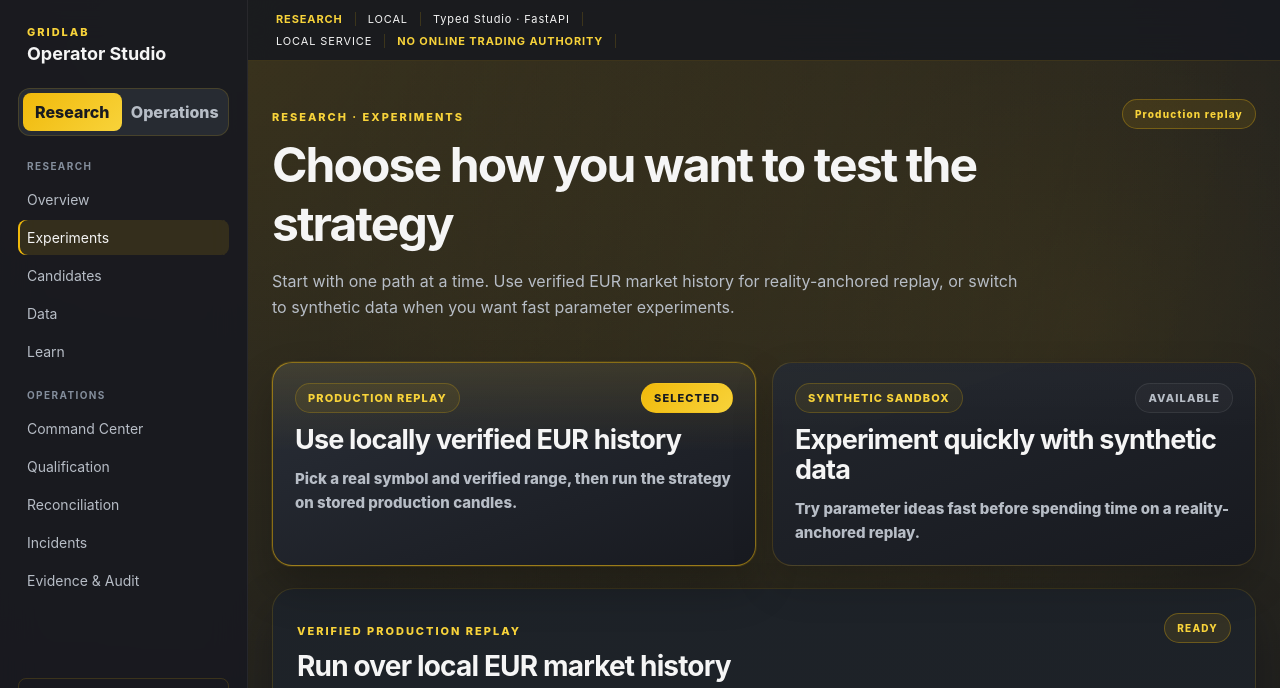
Test: typed Studio shell › configures and executes the migrated backtest through the Research port
The width and height of the screenshot is (1280, 688).
Click the button "Experiment quickly with synthetic data": (879, 398) [772,362,1256,566]
(page scrolled)
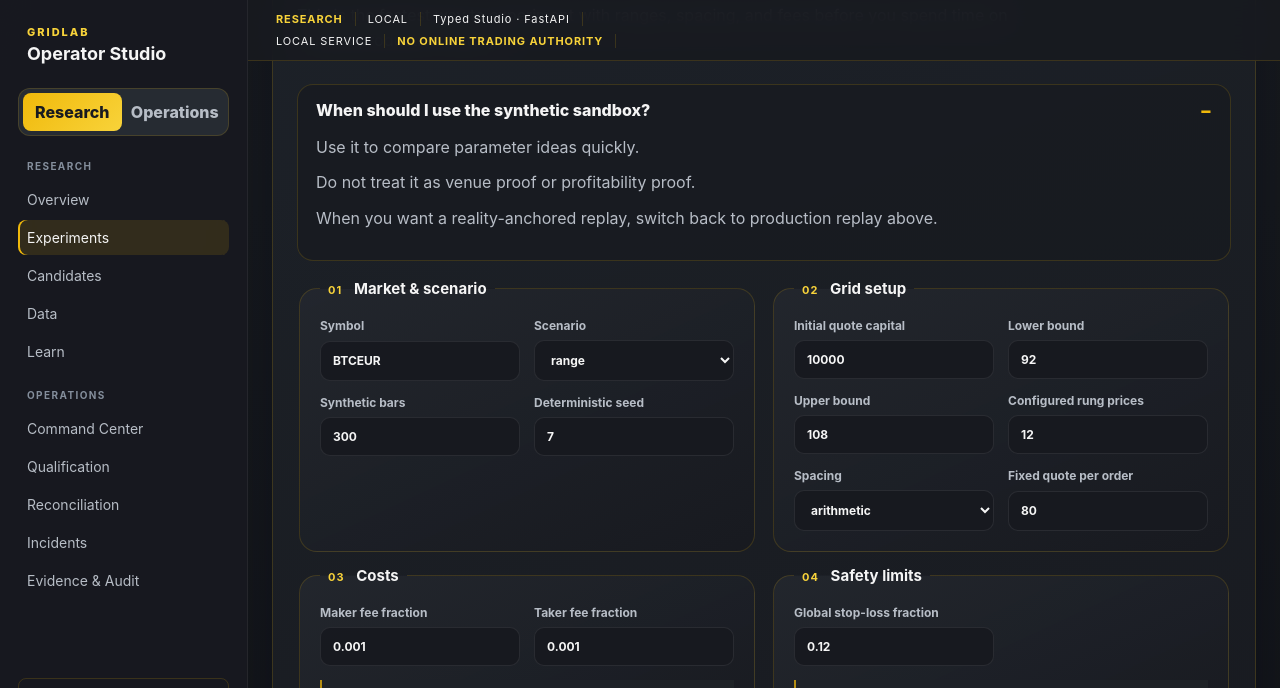
expect the text "Market & scenario" is shown: met, box [350,278,487,298]
expect the text "Grid setup" is shown: met, box [826,278,906,298]
Replace the text in the field labelled "Symbol" with "ETHUSDT": (420, 360) [320,340,520,380]
(page scrolled)
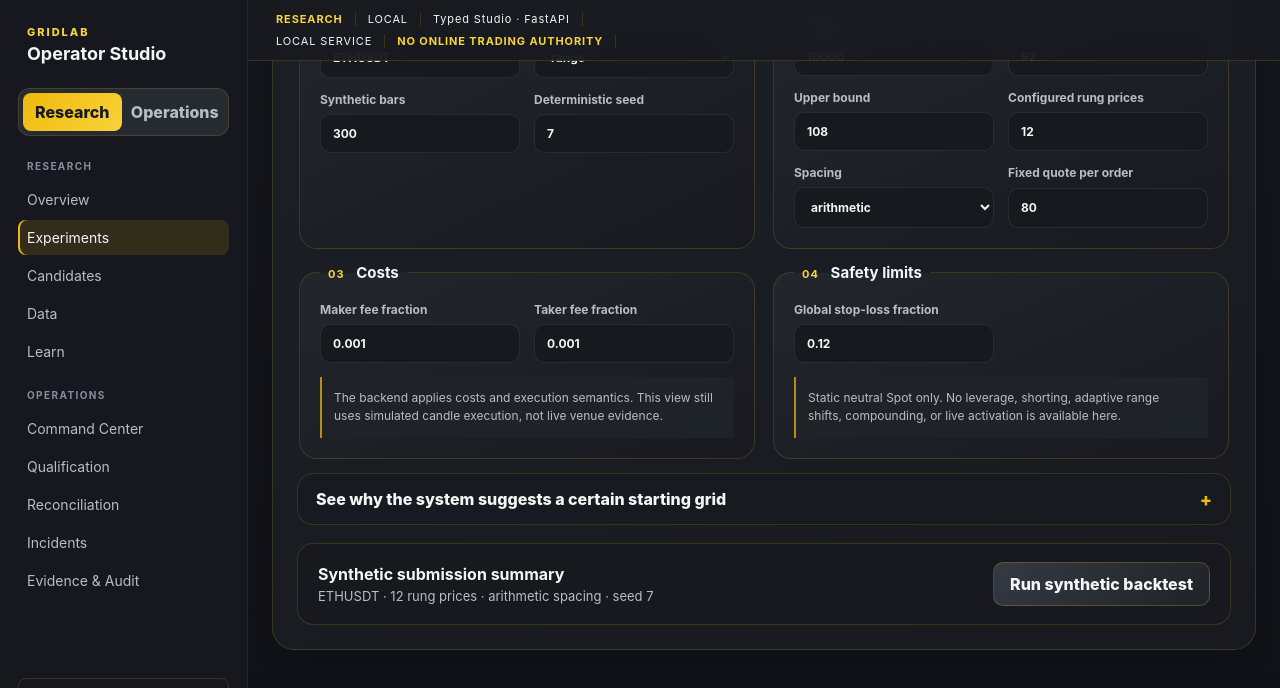
Click the button "Run synthetic backtest": (1102, 584) [993,562,1210,606]
(page scrolled)
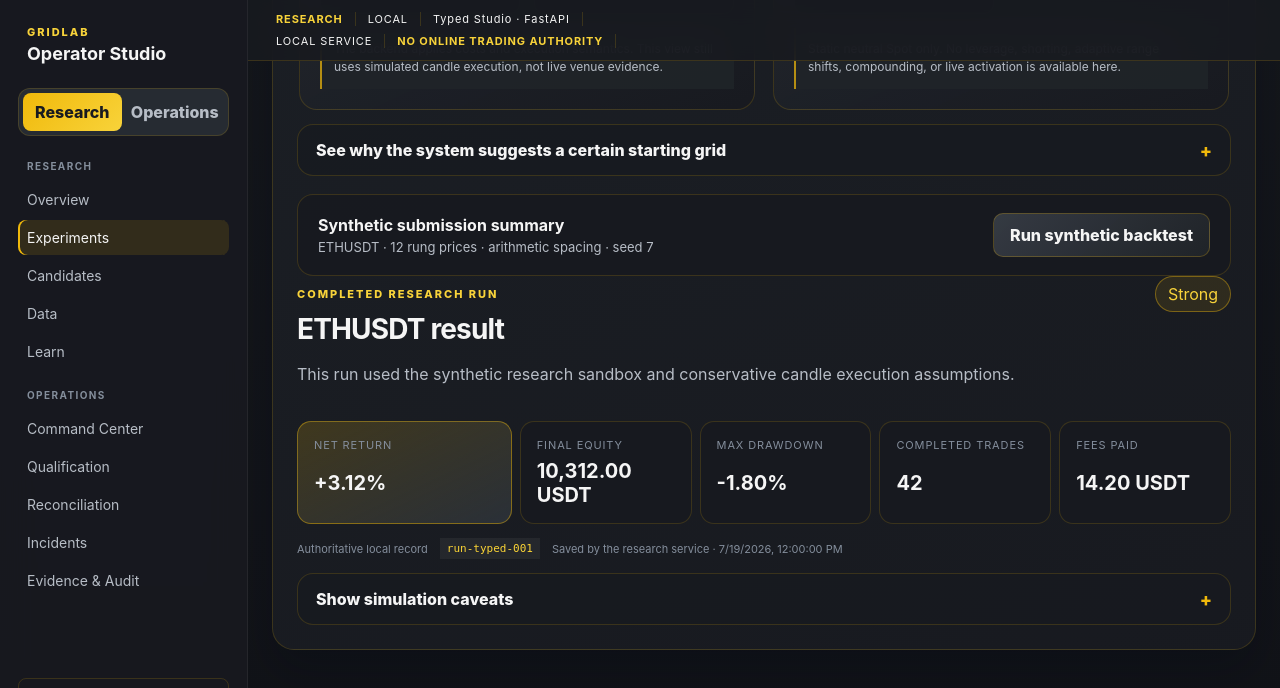
expect the text "+3.12%" is shown: met, box [314,471,386,495]
expect the text "10,312.00 USDT" is shown: met, box [537,459,632,507]
expect the text "run-typed-001" is shown: met, box [440,538,540,559]
